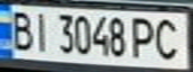0: (72, 11, 93, 56)
3: (51, 10, 75, 55)
4: (90, 12, 112, 56)
8: (106, 14, 130, 58)
B: (3, 7, 36, 52)
C: (151, 15, 187, 62)
I: (30, 9, 54, 53)
P: (127, 13, 160, 60)
